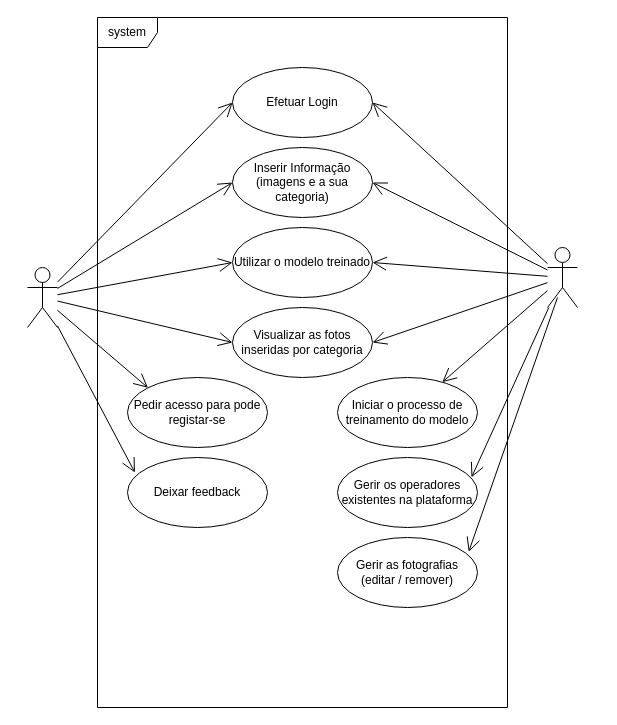
Some shapes in this 617 by 725 pixel diagram are drawn without their labels. Each missing label, with the centre of its shape:
"Administrador" goes at point 562,277.
"Operador" goes at point 42,297.
